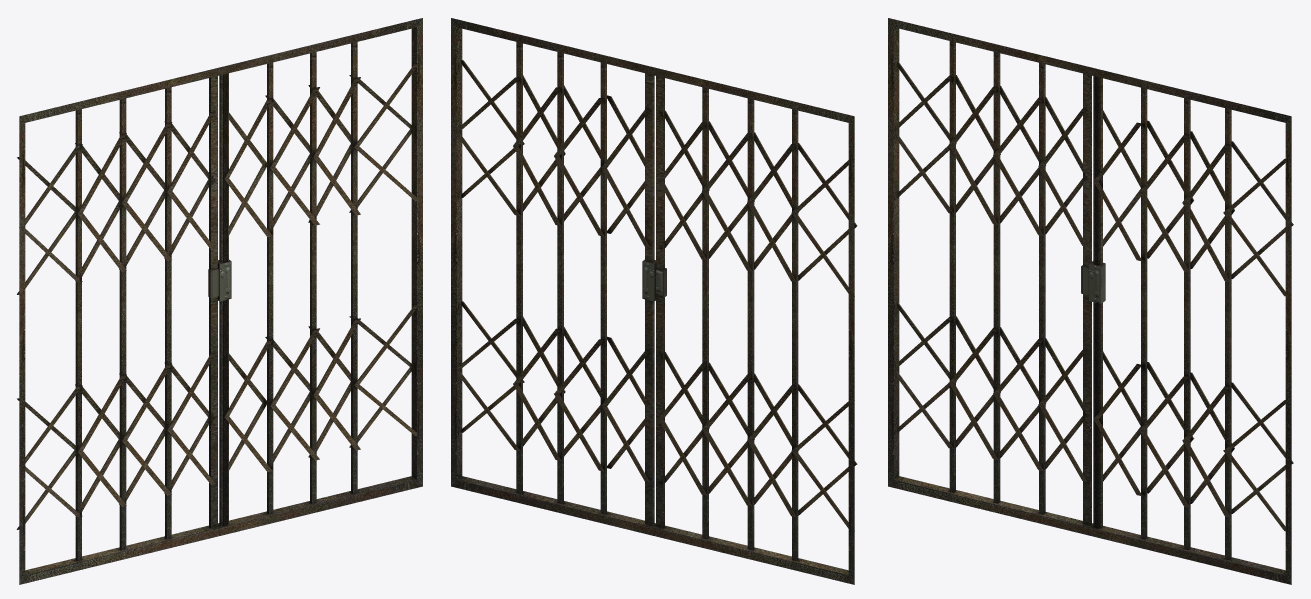
The model's file is elevatordoor.glb.
3 views of the same model, side by side, from view 1: azimuth 30°, elevation 25°; view 2: azimuth 150°, elevation 25°; view 3: azimuth 330°, elevation 25° (orthographic).
Parts seen in each view (by area): view 1: 0_elevatordoor_sheet; view 2: 0_elevatordoor_sheet; view 3: 0_elevatordoor_sheet.
Part boxes in pixels (x1,y1,x2,y2): 0_elevatordoor_sheet: (16, 18, 422, 584); 0_elevatordoor_sheet: (451, 18, 857, 584); 0_elevatordoor_sheet: (888, 18, 1293, 584).
Bounding box in the file's own units: 2.66 × 2.95 × 0.0599.
Materials: 1 (1 with a texture image).
